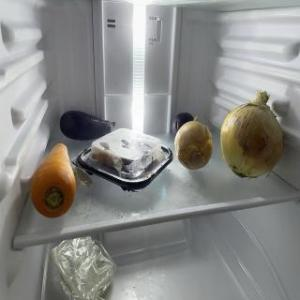carrot: (28, 143, 76, 223)
eggplant: (60, 109, 118, 141), (173, 113, 195, 135)
onion: (220, 92, 284, 183), (175, 118, 215, 170)
